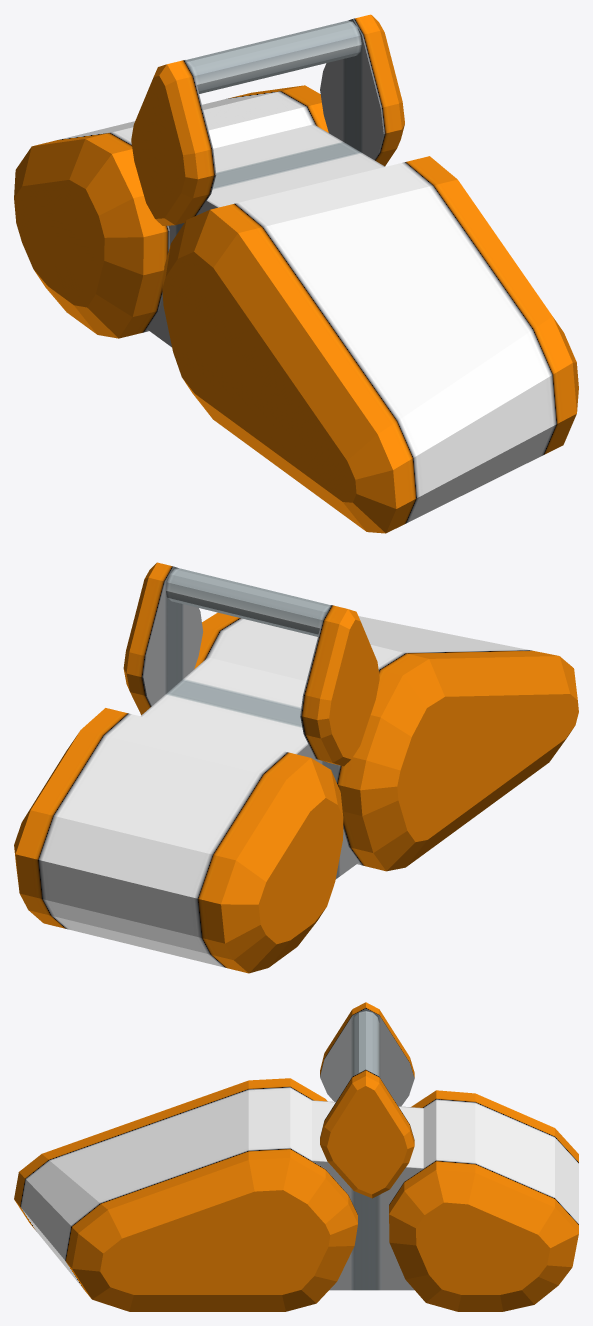
The model's file is L_ANKLE_P_S.dae.
3 renders of one model, top to bottom at view 1: azimuth 30°, elevation 25°; view 2: azimuth 150°, elevation 25°; view 3: azimuth 270°, elevation 25°, orthographic. The views are drawn at different scales.
Parts seen in each view (by area): view 1: root; view 2: root; view 3: root.
Part boxes in pixels (x1,y1,x2,y2): root: [14, 14, 578, 533]; root: [14, 562, 578, 973]; root: [14, 1002, 578, 1311].
Size of the model in its own units: 0.1 by 0.2522 by 0.1147.
Materials: 1 (1 with a texture image).
